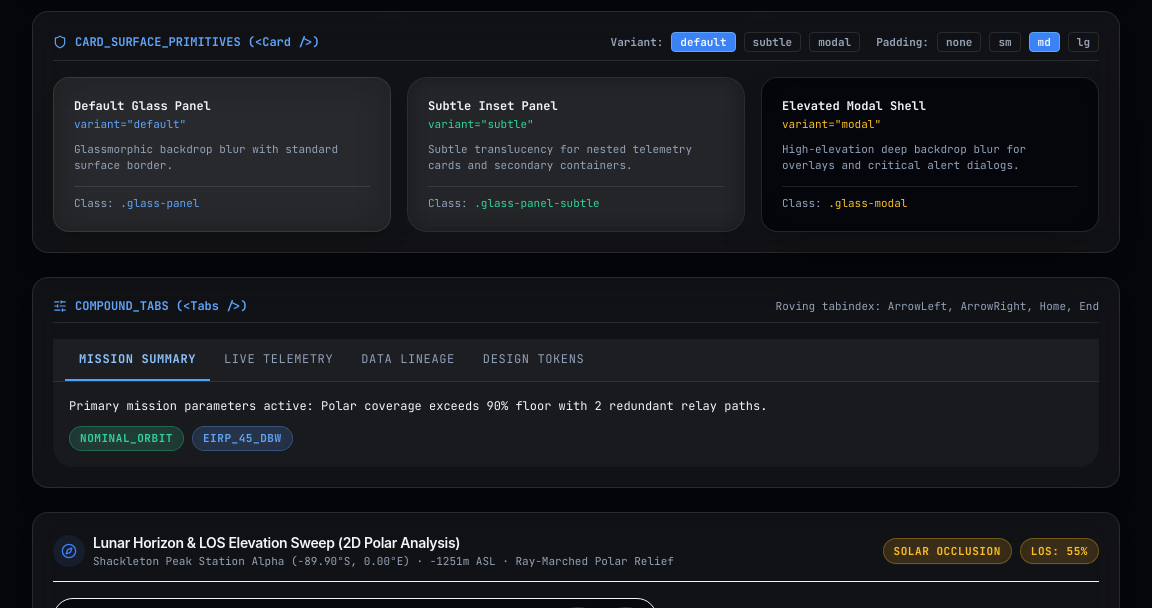
Test case: ComponentLibraryView › showcases Compound Tabs and switches tabs
The image size is (1152, 608).
(page scrolled)
Click the tab "Live Telemetry" at {"x": 279, "y": 360}, box [210,339,347,381]
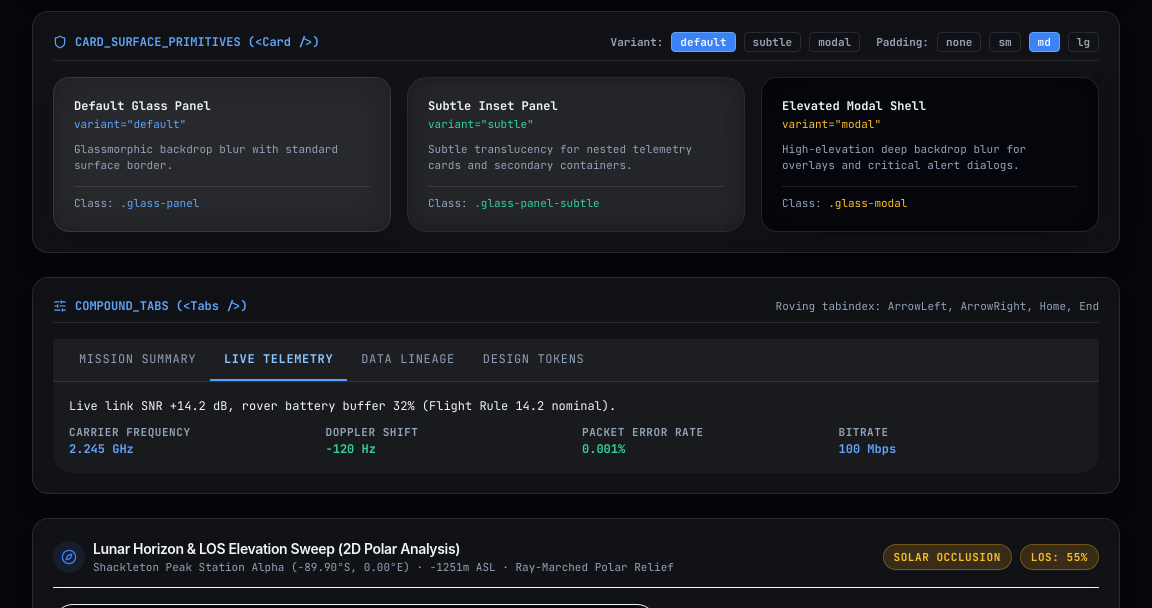
Result: the text "Carrier Frequency" is shown at [69,426,191,440]
